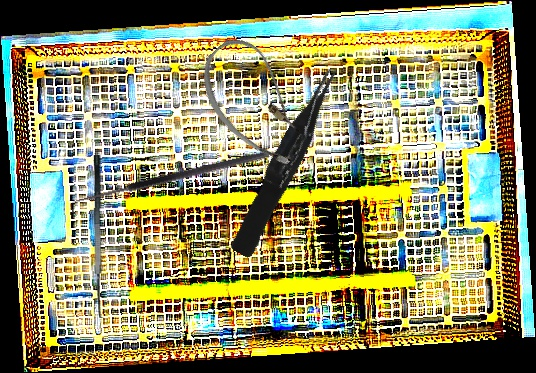Cannula: (183, 27, 330, 178)
Hook Surgical: (68, 148, 273, 217)
Spatula Surgical: (89, 154, 116, 319)
Tissue Forceps: (221, 65, 353, 260)
